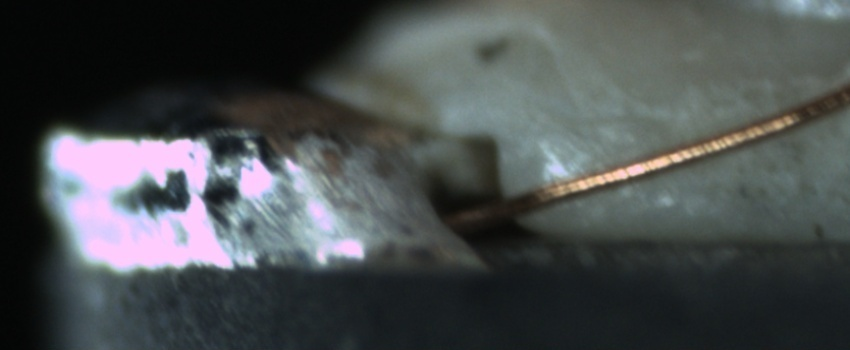DL: (537, 92, 683, 160)
